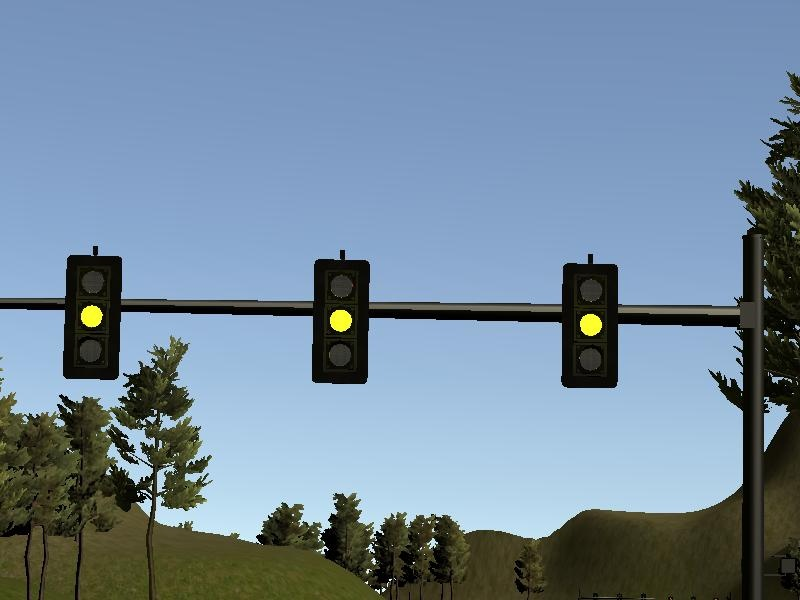YELLOW: (307, 255, 372, 386), (59, 250, 124, 381), (558, 263, 620, 389)
